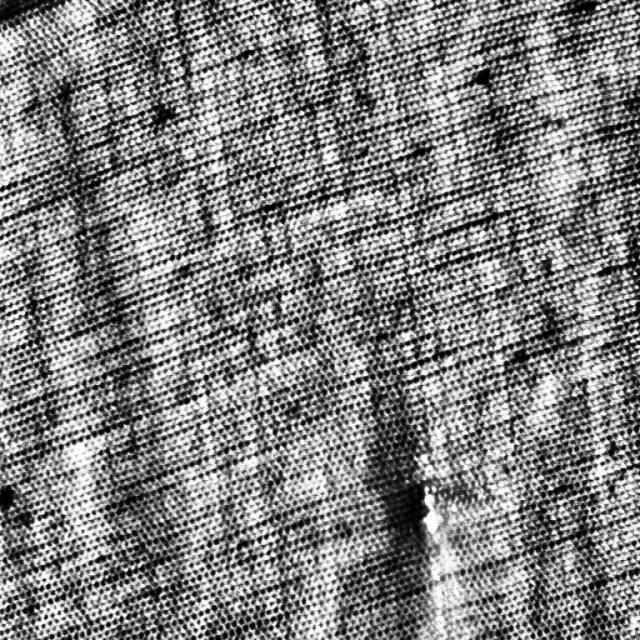Hole: (402, 472, 454, 550)
